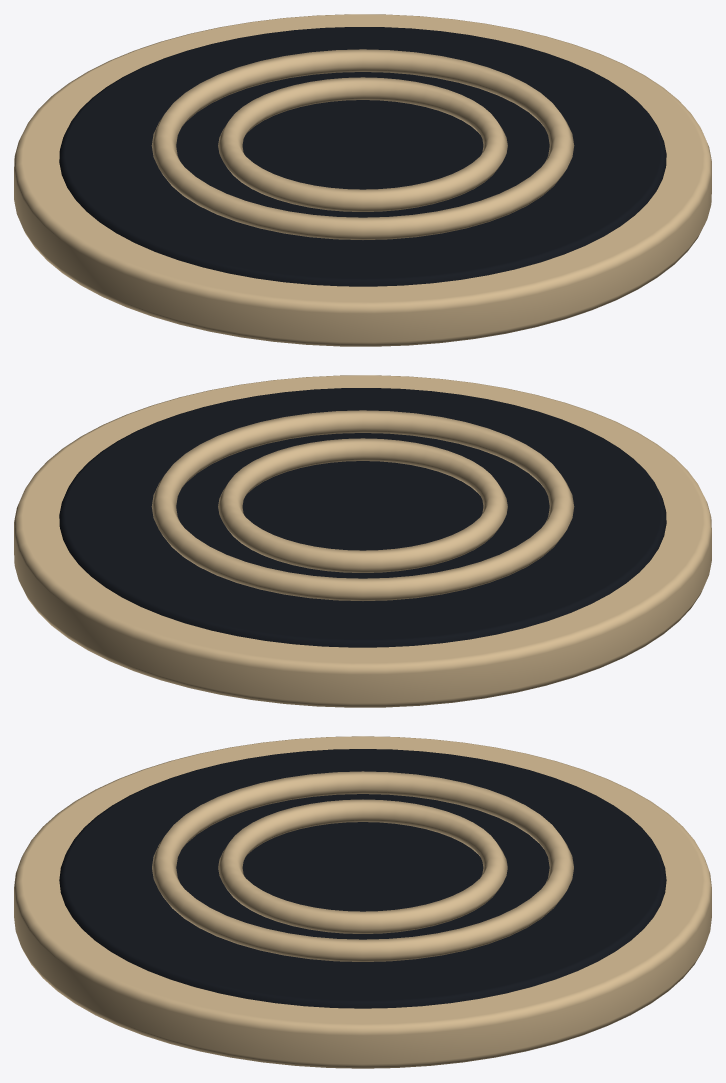
The model's file is crypto-coin.glb.
3 renders of one model, top to bottom at view 1: azimuth 30°, elevation 25°; view 2: azimuth 150°, elevation 25°; view 3: azimuth 270°, elevation 25°, orthographic.
Visible parts, largest first — view 1: CryptoCoin_BlackGold_inlay, CryptoCoin_BlackGold_body, CryptoCoin_BlackGold_abstract.001, CryptoCoin_BlackGold_abstract; view 2: CryptoCoin_BlackGold_inlay, CryptoCoin_BlackGold_body, CryptoCoin_BlackGold_abstract.001, CryptoCoin_BlackGold_abstract; view 3: CryptoCoin_BlackGold_inlay, CryptoCoin_BlackGold_body, CryptoCoin_BlackGold_abstract.001, CryptoCoin_BlackGold_abstract.
Part boxes in pixels (x1=…): CryptoCoin_BlackGold_inlay: x1=59, y1=27, x2=666, y2=286; CryptoCoin_BlackGold_body: x1=14, y1=14, x2=711, y2=346; CryptoCoin_BlackGold_abstract.001: x1=151, y1=49, x2=574, y2=239; CryptoCoin_BlackGold_abstract: x1=218, y1=77, x2=507, y2=211; CryptoCoin_BlackGold_inlay: x1=59, y1=388, x2=666, y2=647; CryptoCoin_BlackGold_body: x1=14, y1=375, x2=711, y2=707; CryptoCoin_BlackGold_abstract.001: x1=151, y1=410, x2=574, y2=600; CryptoCoin_BlackGold_abstract: x1=218, y1=438, x2=507, y2=572; CryptoCoin_BlackGold_inlay: x1=59, y1=749, x2=666, y2=1008; CryptoCoin_BlackGold_body: x1=14, y1=736, x2=711, y2=1068; CryptoCoin_BlackGold_abstract.001: x1=152, y1=771, x2=573, y2=961; CryptoCoin_BlackGold_abstract: x1=218, y1=799, x2=507, y2=933.
Size of the model in its own units: 2 by 0.2103 by 2.
